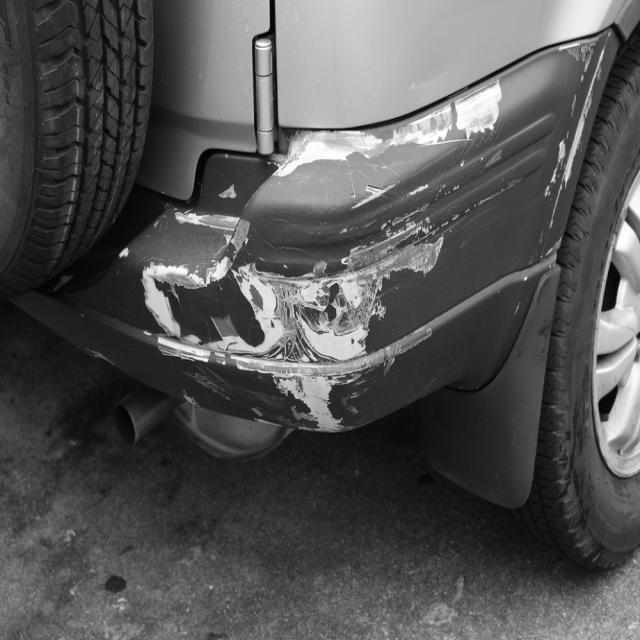scratch: (143, 77, 508, 433)
